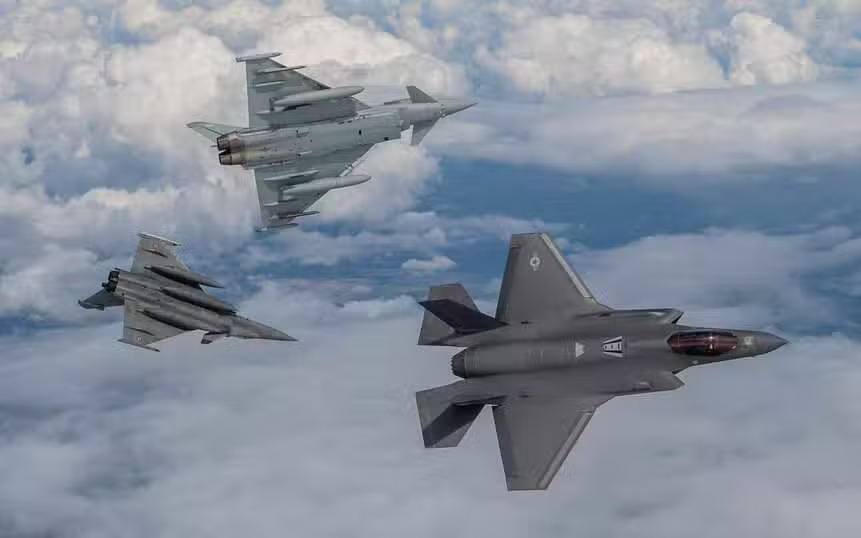F35: (416, 228, 787, 490)
Rafale: (78, 231, 300, 352)
